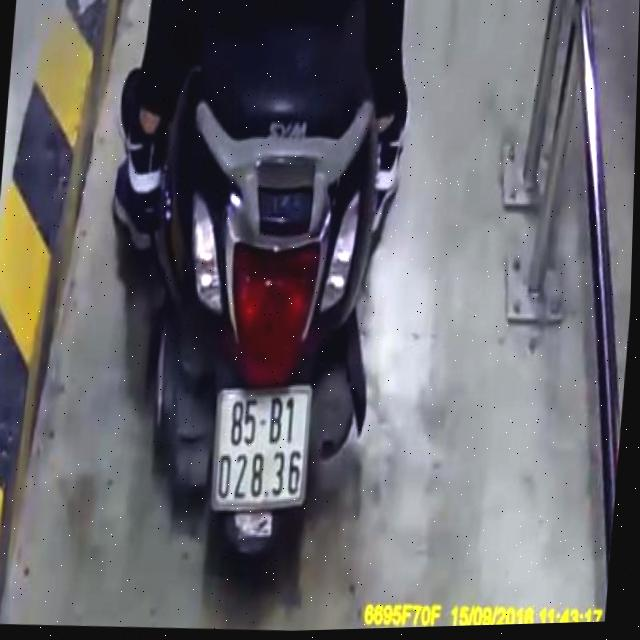motorcycle: (105, 10, 419, 602)
plate: (204, 375, 320, 518)
